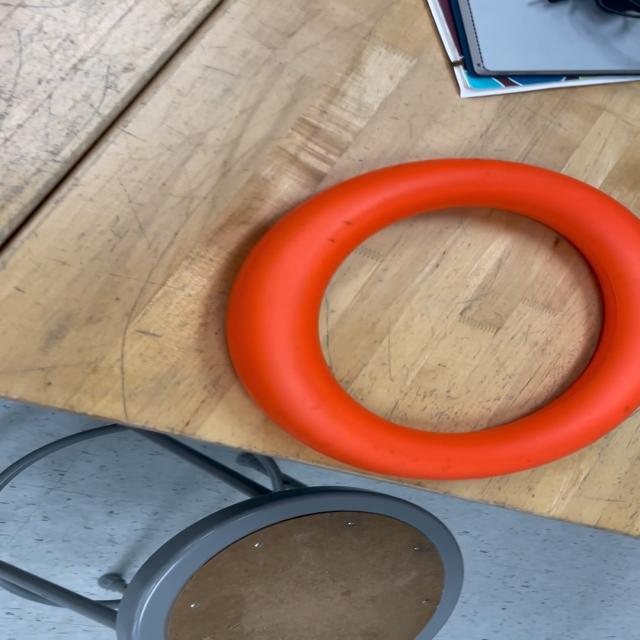note: (223, 160, 639, 478)
